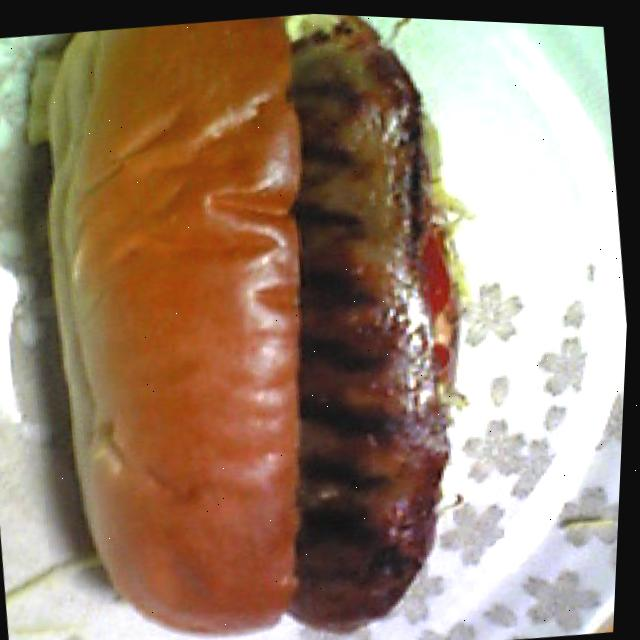汉堡快餐: (17, 1, 505, 640)
